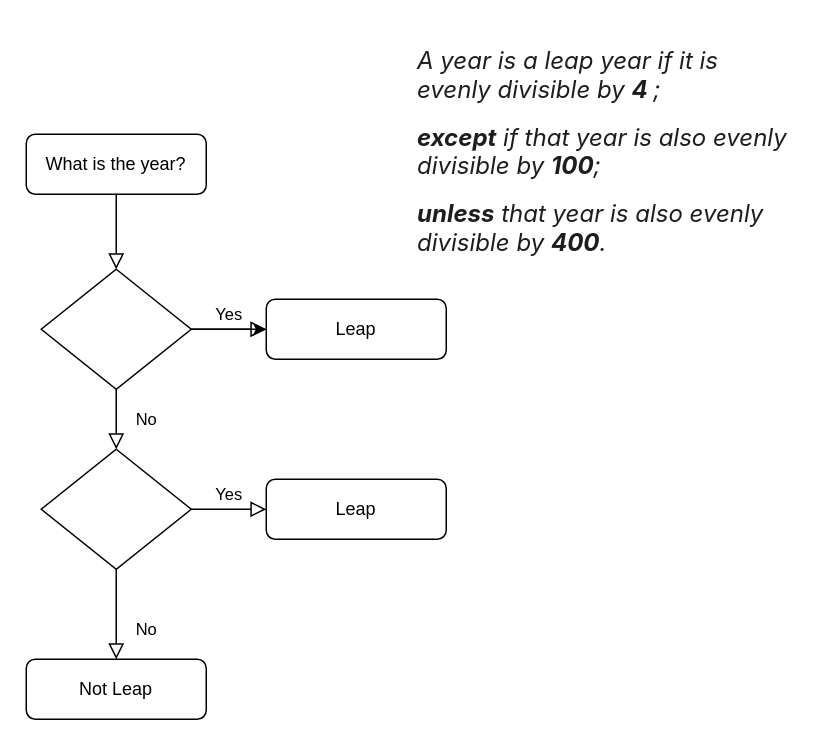
The diagram is 818 pixels wide and 746 high, and some of its shapes have lost their labels. Each missing label, with the centre of its shape:
Is the year divisible by 400?: the point at 115,328
Is the year divisible by 4?: the point at 115,508
